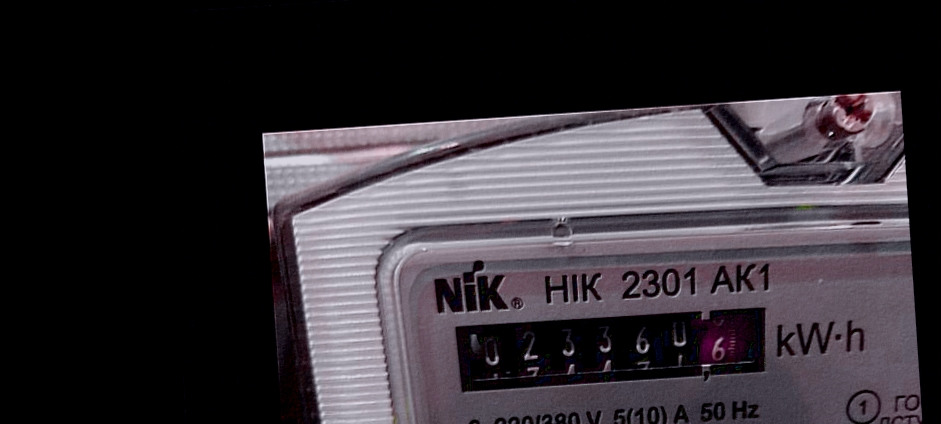0: (481, 333, 504, 367), (671, 317, 690, 349)
2: (519, 327, 544, 363)
3: (556, 325, 580, 358), (595, 322, 616, 354)
6: (631, 322, 654, 355), (707, 332, 730, 362)
screen: (437, 288, 785, 408)
